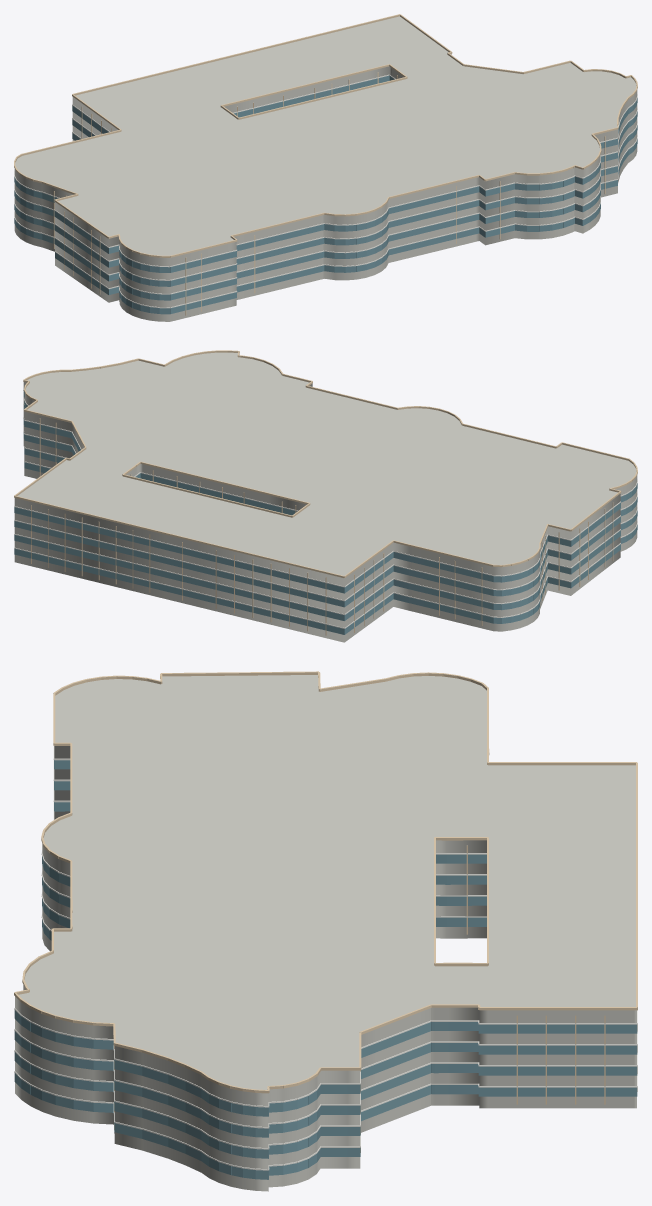
Rendered from ambience-vasant-kunj.glb.
The picture shows the model from 3 angles, top to bottom: view 1: azimuth 30°, elevation 25°; view 2: azimuth 150°, elevation 25°; view 3: azimuth 270°, elevation 25°; orthographic projection. The views are drawn at different scales.
Visible parts, largest first — view 1: NCR_ambience-vasant-kunj; view 2: NCR_ambience-vasant-kunj; view 3: NCR_ambience-vasant-kunj.
Boxes of the visible parts, <box> form: NCR_ambience-vasant-kunj: <box>14,14,637,321</box>; NCR_ambience-vasant-kunj: <box>14,350,637,642</box>; NCR_ambience-vasant-kunj: <box>14,671,637,1191</box>.
Bounding box in the file's own units: 214 × 24 × 134.
